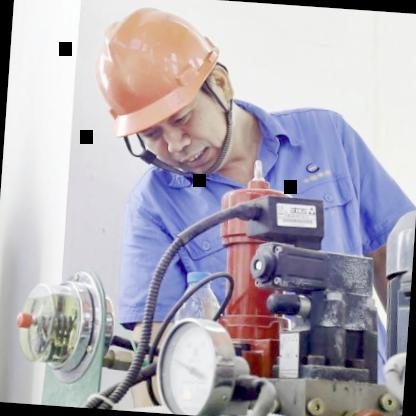helmet: (76, 1, 262, 186)
